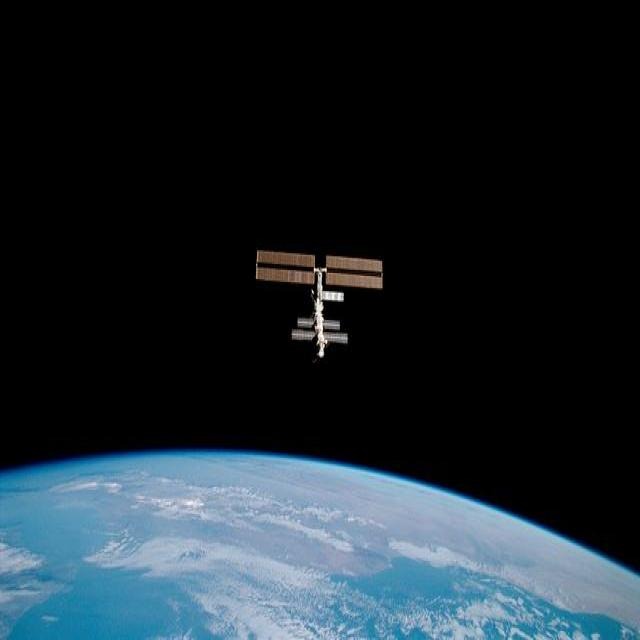medium_debris: (257, 250, 382, 357)
